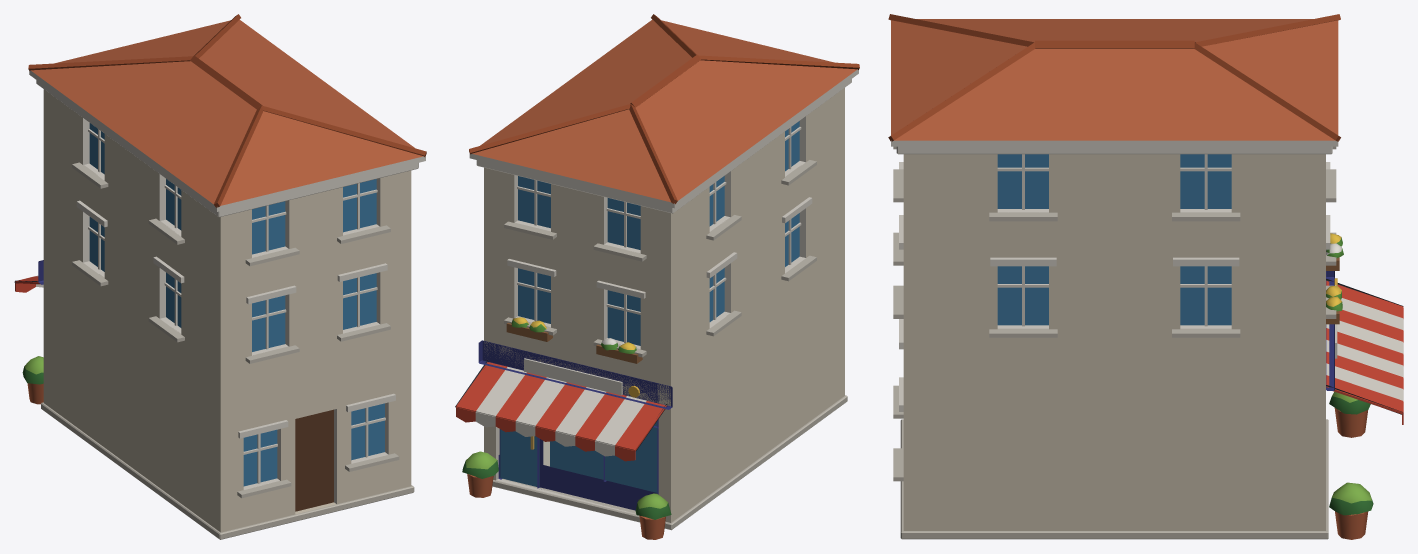
The model's file is shop_a.glb.
The picture shows the model from 3 angles, left to right: view 1: azimuth 30°, elevation 25°; view 2: azimuth 150°, elevation 25°; view 3: azimuth 270°, elevation 25°; orthographic projection. The views are drawn at different scales.
Parts seen in each view (by area): view 1: shop, plants; view 2: shop, plants; view 3: shop, plants.
Part boxes in pixels (<box>): shop: <box>14,14,426,539</box>; plants: <box>22,356,43,404</box>; shop: <box>455,14,859,530</box>; plants: <box>462,317,671,539</box>; shop: <box>888,14,1403,539</box>; plants: <box>1326,233,1373,539</box>.
Size of the model in its own units: 5.14 by 8.56 by 9.04.
